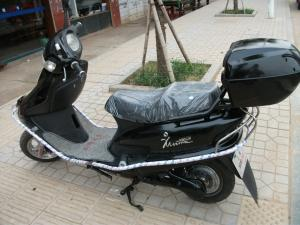电动车: (1, 8, 298, 213)
